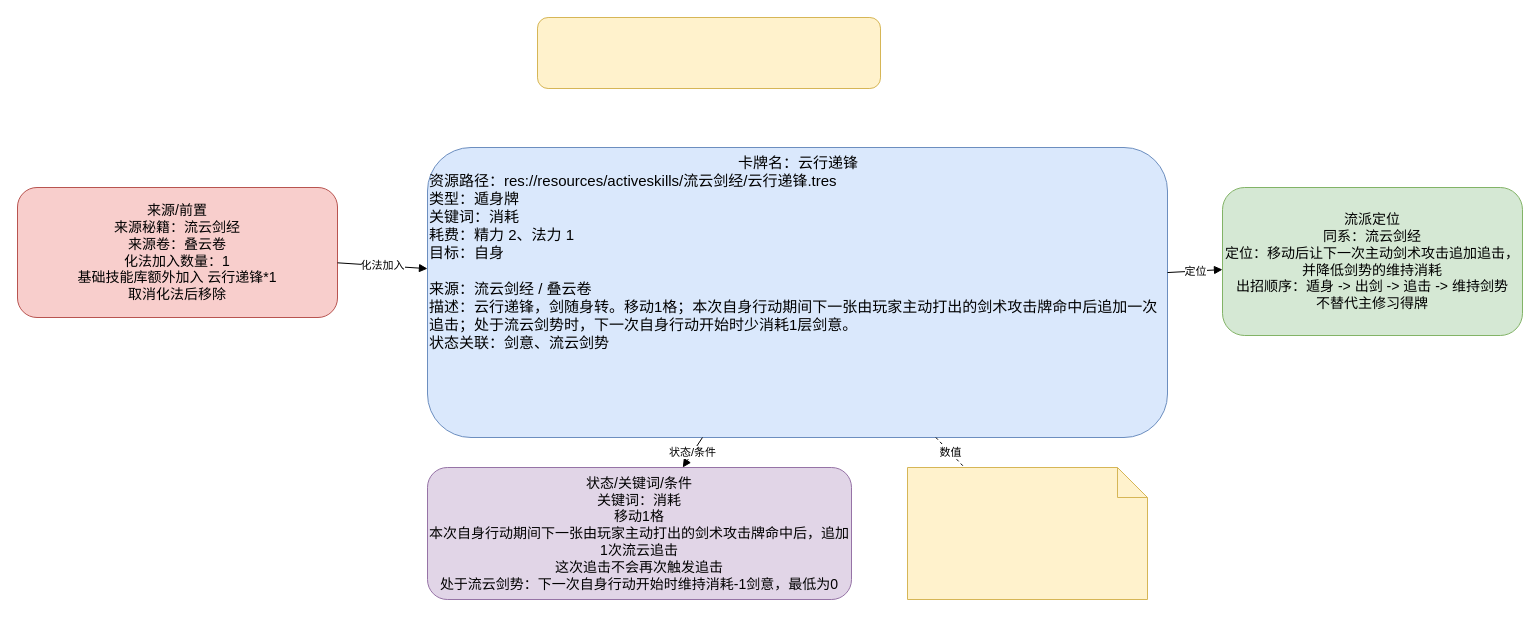
The diagram is 1540 pixels wide and 617 high, and some of its shapes have lost their labels. Here are the shapes that lost their labels. From the top down, the box of each, then its label:
(536, 16, 880, 88): 云行递锋 流云剑经 / 叠云卷 / 化法加入*1
(906, 466, 1148, 600): 数值摘要 位移：1格 追击：下一张剑攻击命中后触发1次 下一次自身行动开始时维持：剑意消耗-1 消耗资源：法力1 + 精力14 化法加入数量：1
